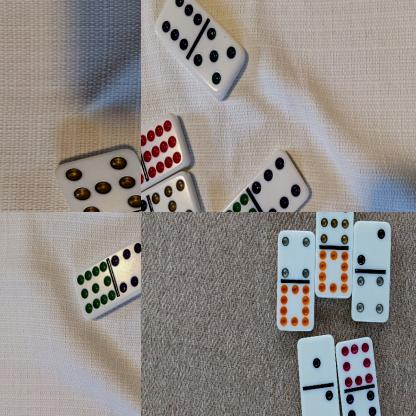pip-1: (297, 336, 337, 388)
pip-10: (276, 283, 316, 334), (316, 248, 353, 301)
pip-11: (75, 263, 116, 320), (214, 193, 266, 212)
pip-12: (141, 114, 181, 179)
pip-2: (354, 223, 392, 274), (301, 384, 342, 416)
pip-4: (277, 230, 317, 283), (352, 272, 390, 324)
pip-5: (193, 27, 244, 92)
pip-6: (252, 149, 309, 212), (154, 0, 203, 52), (111, 239, 141, 294), (345, 391, 383, 416)
pip-7: (56, 149, 141, 212), (153, 177, 199, 212), (315, 212, 354, 250)
pip-8: (336, 339, 374, 390)
